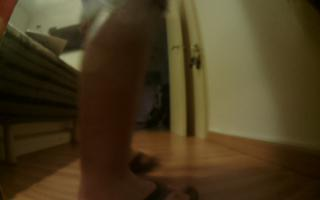person: (71, 1, 201, 200)
